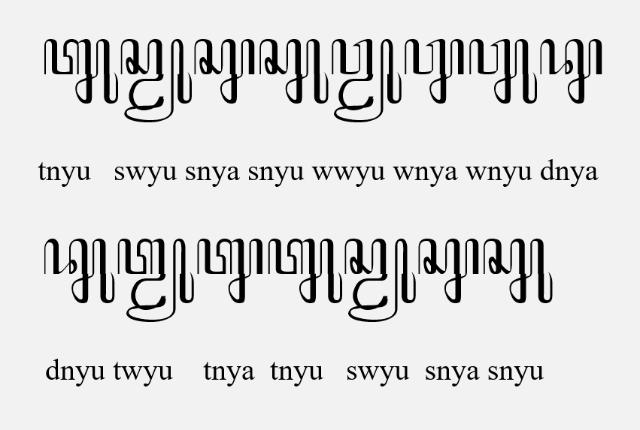dny: (540, 38, 602, 105)
dnyu: (42, 238, 116, 304)
sny: (193, 38, 254, 105), (418, 238, 479, 304)
snyu: (259, 38, 329, 105), (483, 238, 553, 304)
swyu: (120, 38, 192, 124), (344, 238, 416, 324)
tny: (196, 238, 264, 304)
tnyu: (43, 38, 119, 105), (268, 238, 342, 304)
twyu: (118, 238, 194, 322)
wny: (404, 38, 464, 104)
wnyu: (468, 38, 538, 105)
wwyu: (331, 38, 403, 124)
